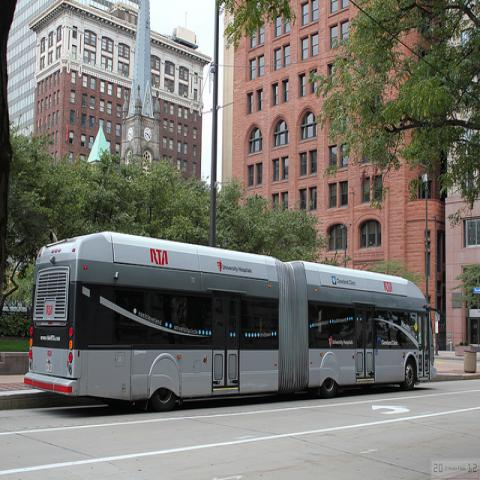bus: (28, 231, 436, 408)
